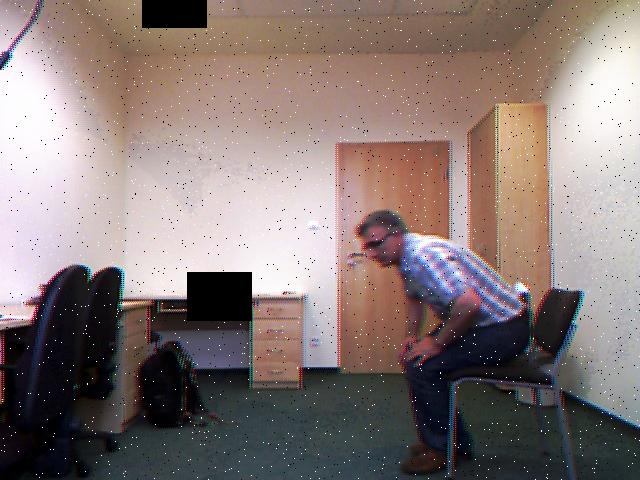sitting: (353, 200, 541, 480)
